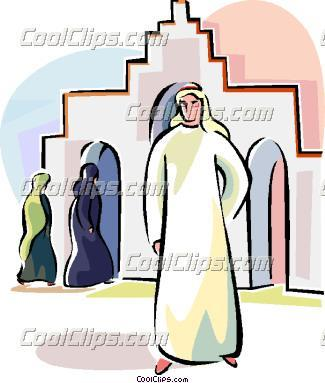person: (138, 83, 255, 375), (60, 161, 119, 288), (14, 172, 62, 286)
